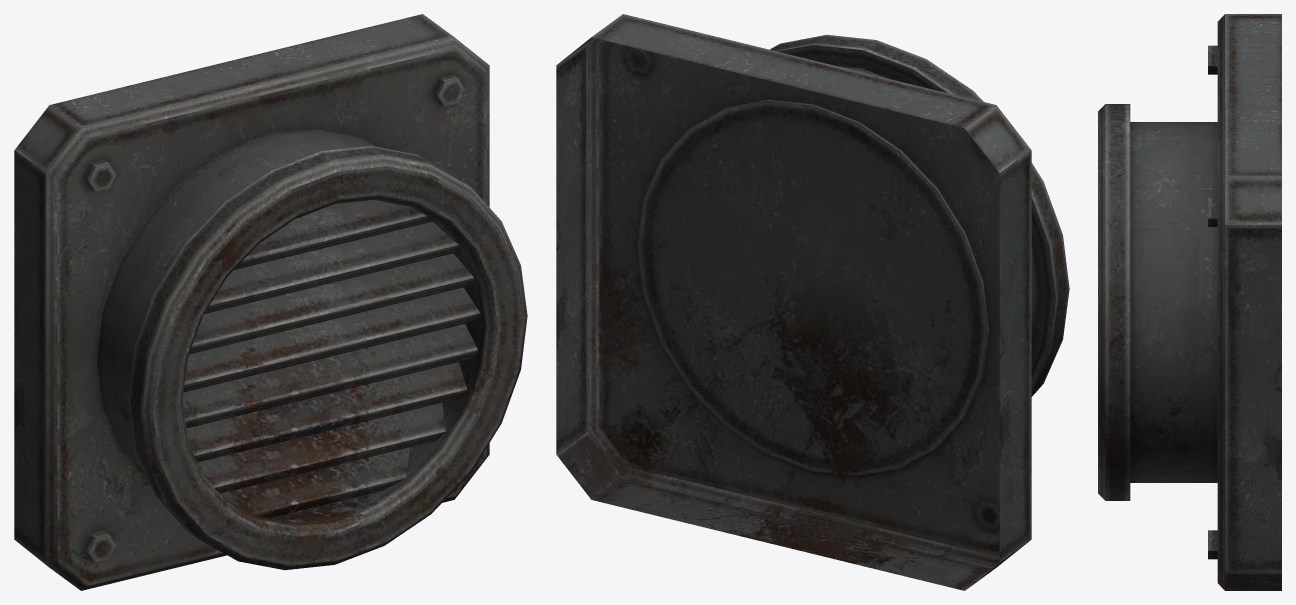
Rendered from ventrounded-opt.glb.
3 renders of one model, left to right at view 1: azimuth 30°, elevation 25°; view 2: azimuth 150°, elevation 25°; view 3: azimuth 270°, elevation 25°, orthographic. The views are drawn at different scales.
Parts seen in each view (by area): view 1: vent2_vents_0; view 2: vent2_vents_0; view 3: vent2_vents_0.
Part boxes in pixels (bbox=[...]): vent2_vents_0: bbox=[14, 14, 527, 590]; vent2_vents_0: bbox=[556, 14, 1069, 590]; vent2_vents_0: bbox=[1098, 14, 1281, 590].
Size of the model in its own units: 172 by 172 by 68.98.
1 material, 1 textured.
